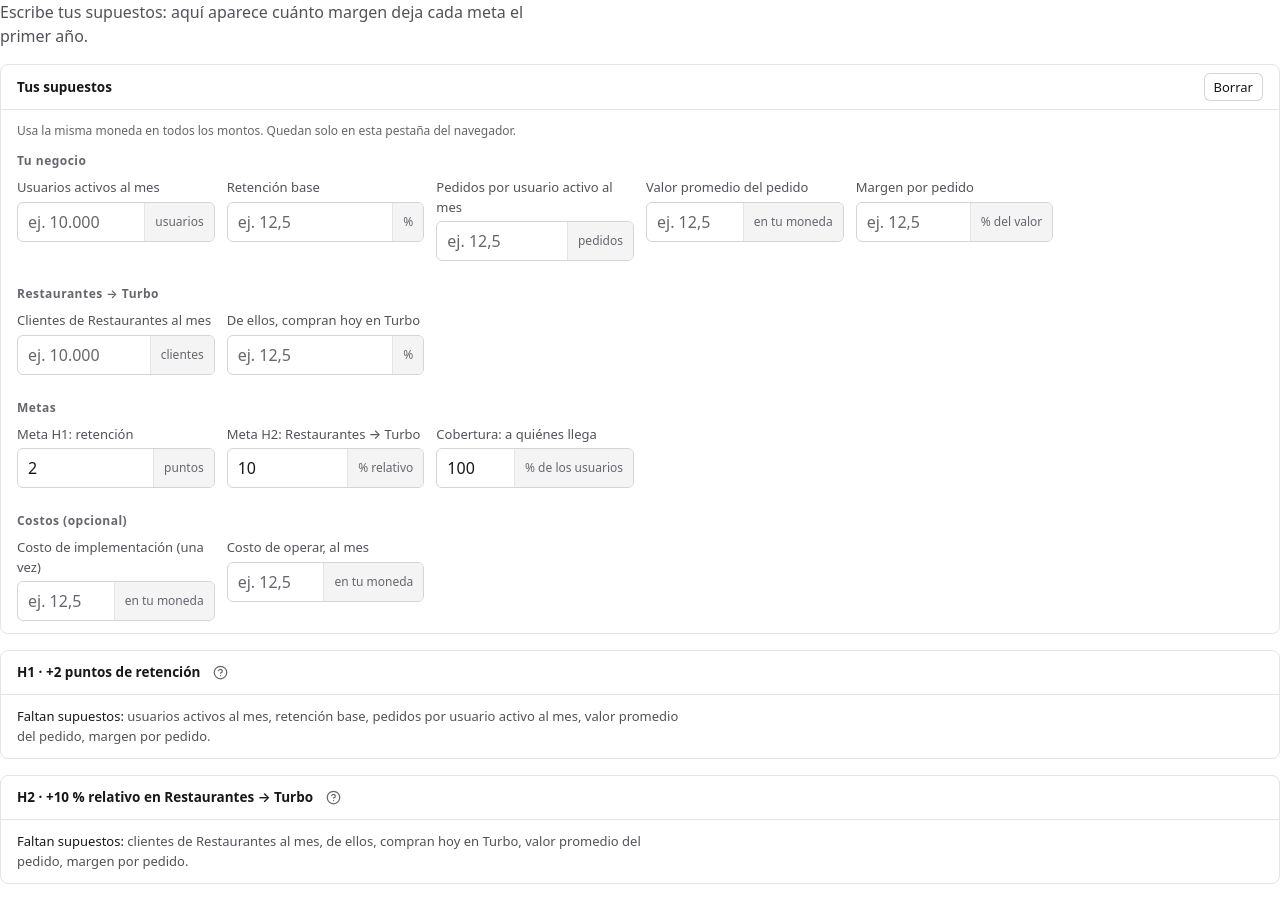
Test: GoalValue › with invented numbers: the summary, both readings and the H2
Type "100.000" into the field labelled "Usuarios activos al mes" at x=81, y=222, box [18, 202, 144, 240]
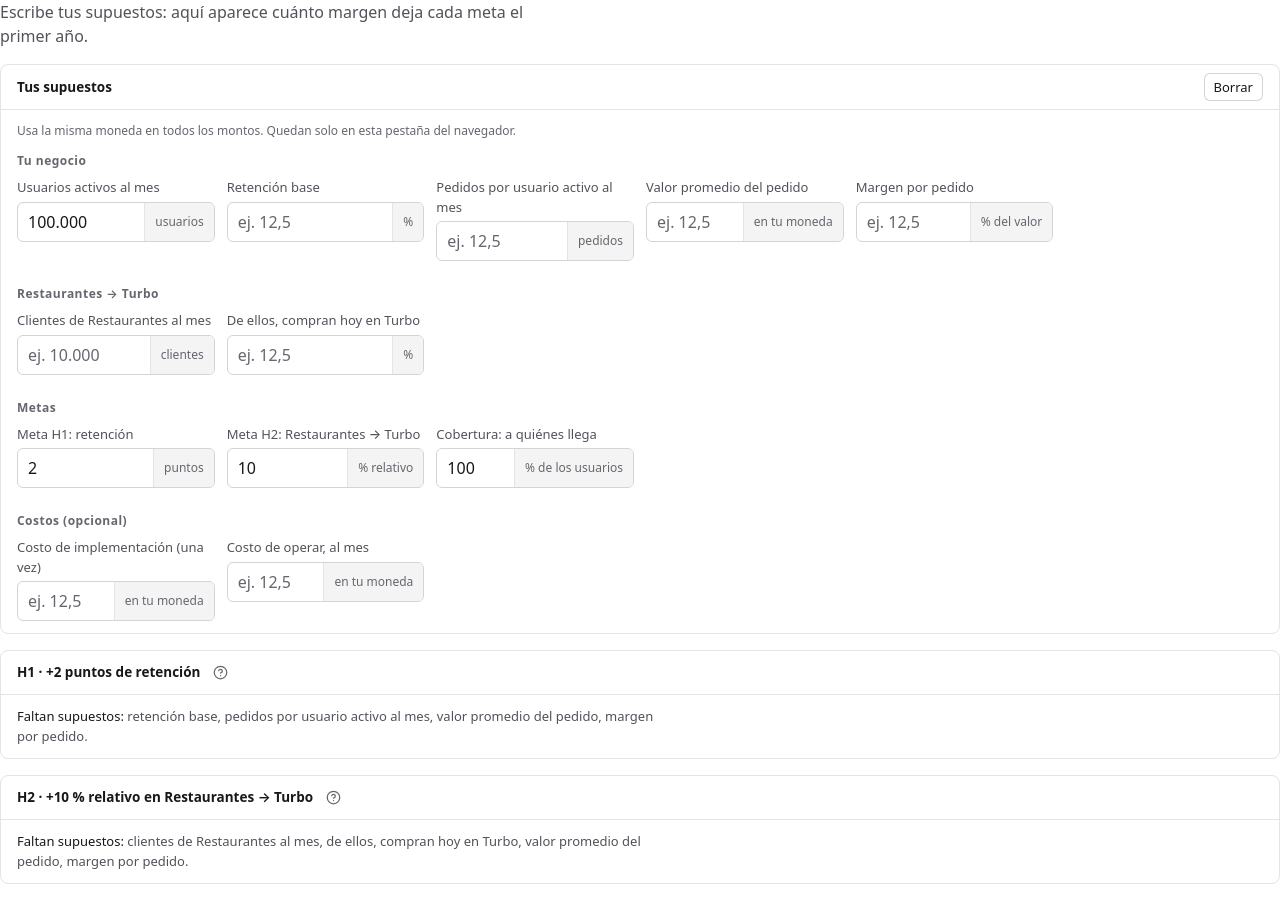
Type "50" into the field labelled "Retención base" at x=310, y=222, box [228, 202, 392, 240]
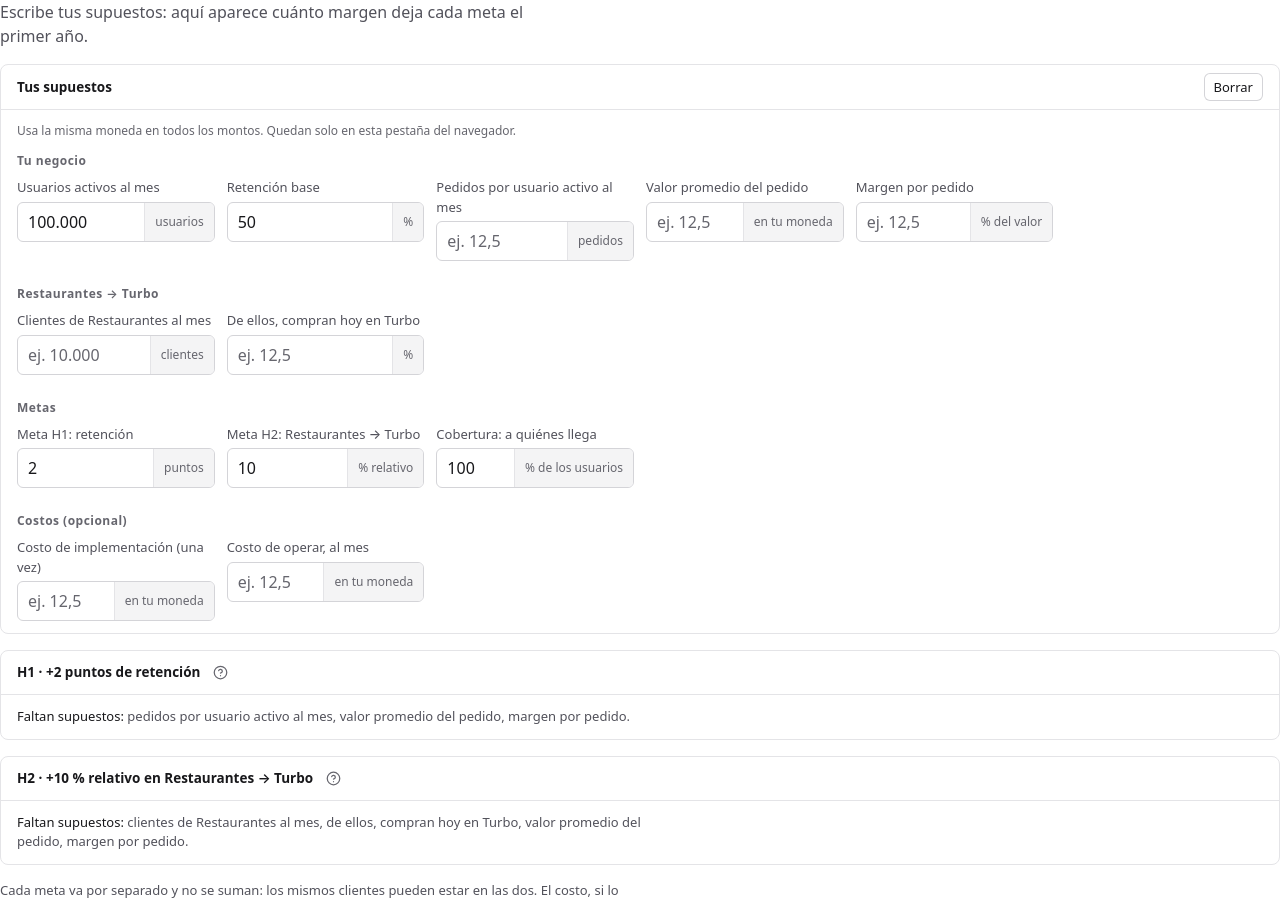
Type "2" into the field labelled "Pedidos por usuario activo al mes" at x=502, y=241, box [437, 222, 567, 260]
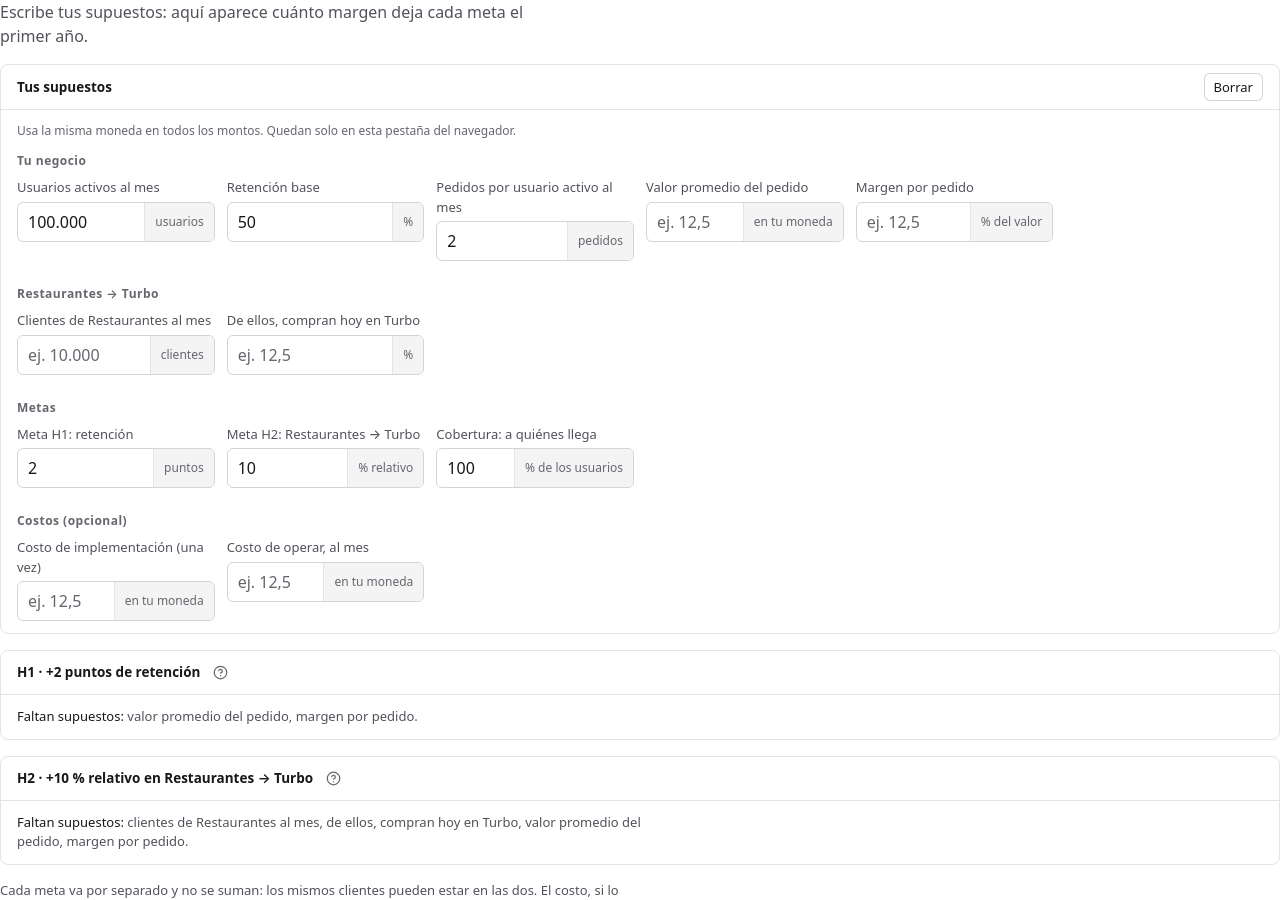
Type "10" into the field labelled "Valor promedio del pedido" at x=695, y=222, box [647, 202, 743, 240]
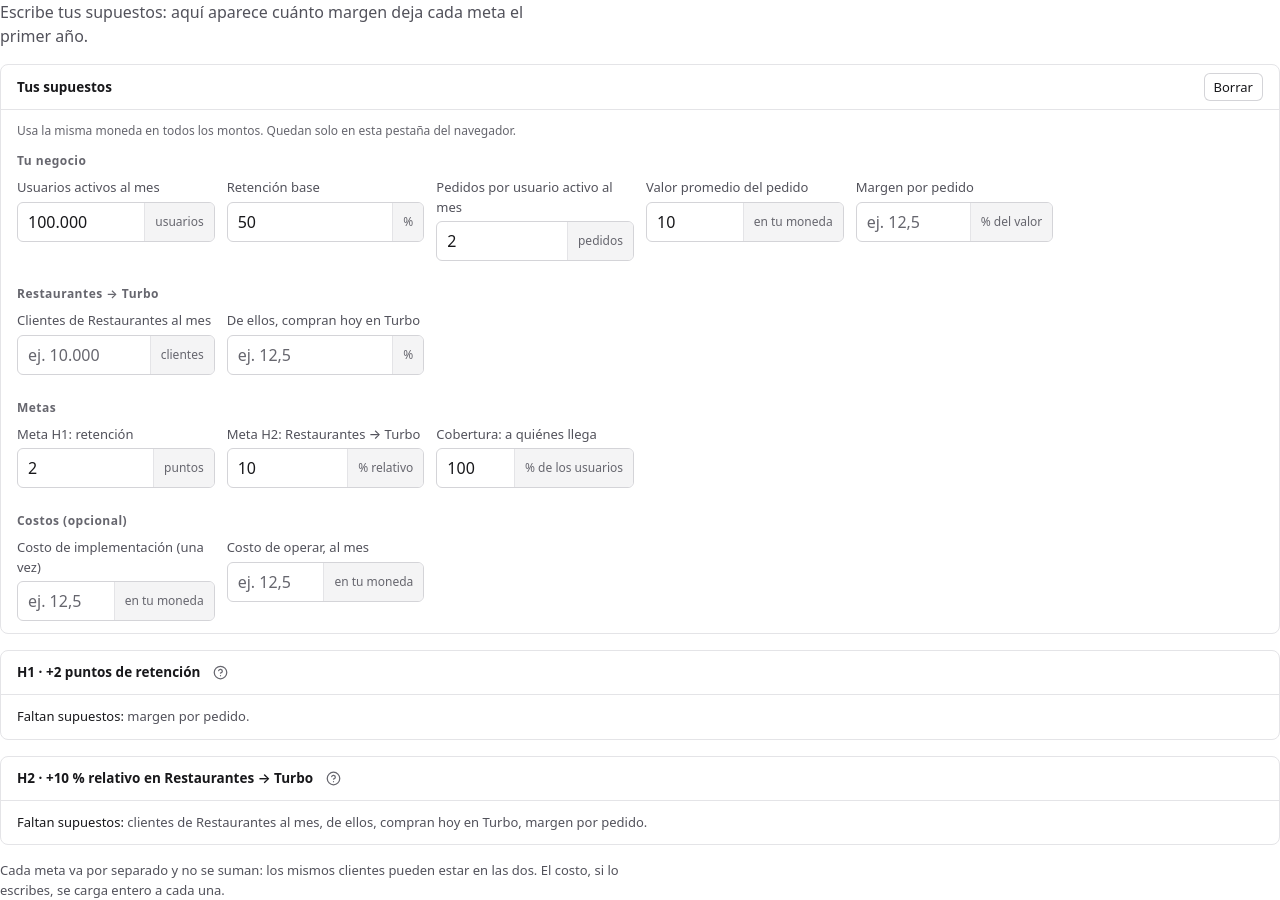
Type "10" into the field labelled "Margen por pedido" at x=913, y=222, box [857, 202, 970, 240]
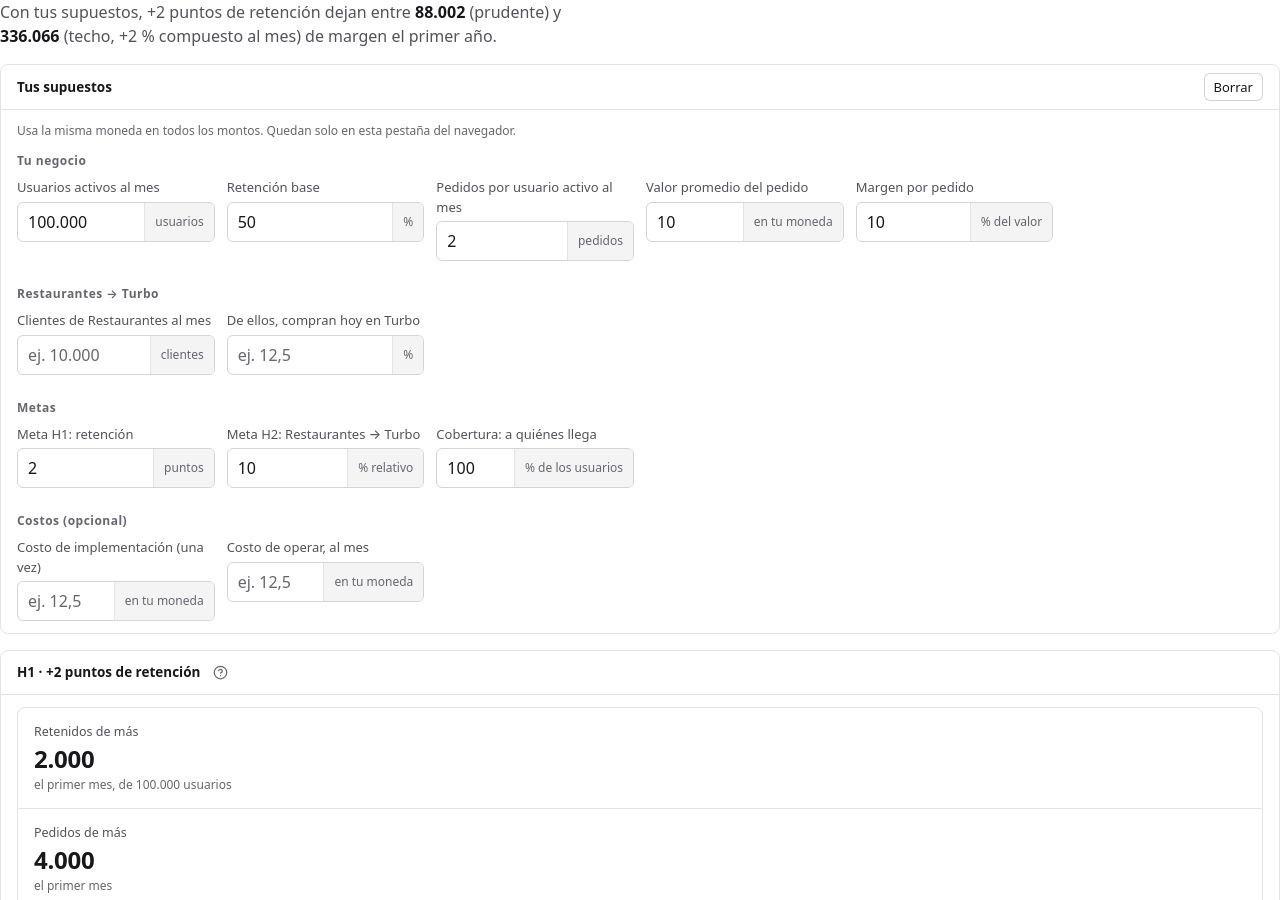
Type "100.000" into the field labelled "Clientes de Restaurantes al mes" at x=84, y=354, box [18, 336, 150, 374]
Type "20" into the field labelled "De ellos, compran hoy en Turbo" at x=310, y=354, box [228, 336, 392, 374]
(page scrolled)
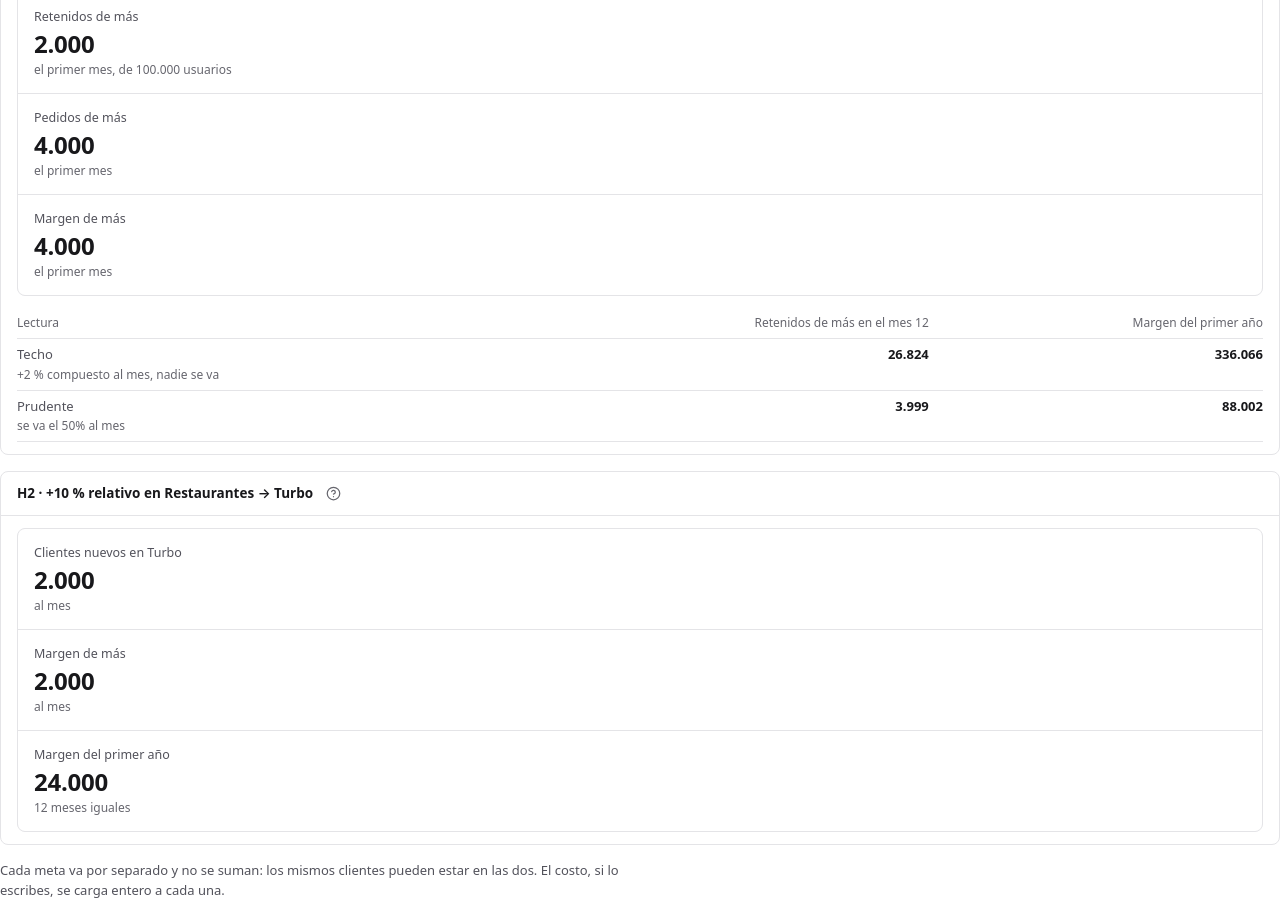
Check: the text "Clientes nuevos en Turbo" shows "2.000", box [34, 563, 95, 596]
